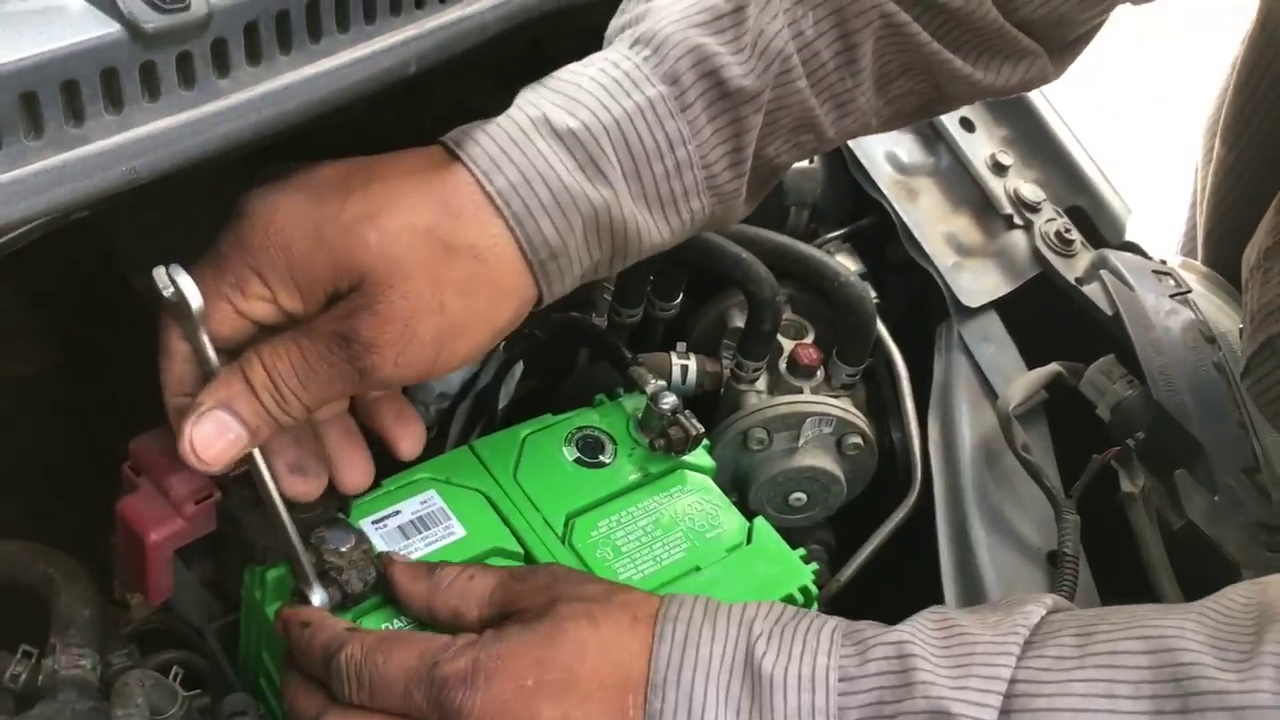battery: (205, 375, 831, 629)
neg_connected: (582, 326, 700, 477)
pos_disconnected: (89, 415, 412, 611)
pos_touched: (137, 266, 451, 696)
